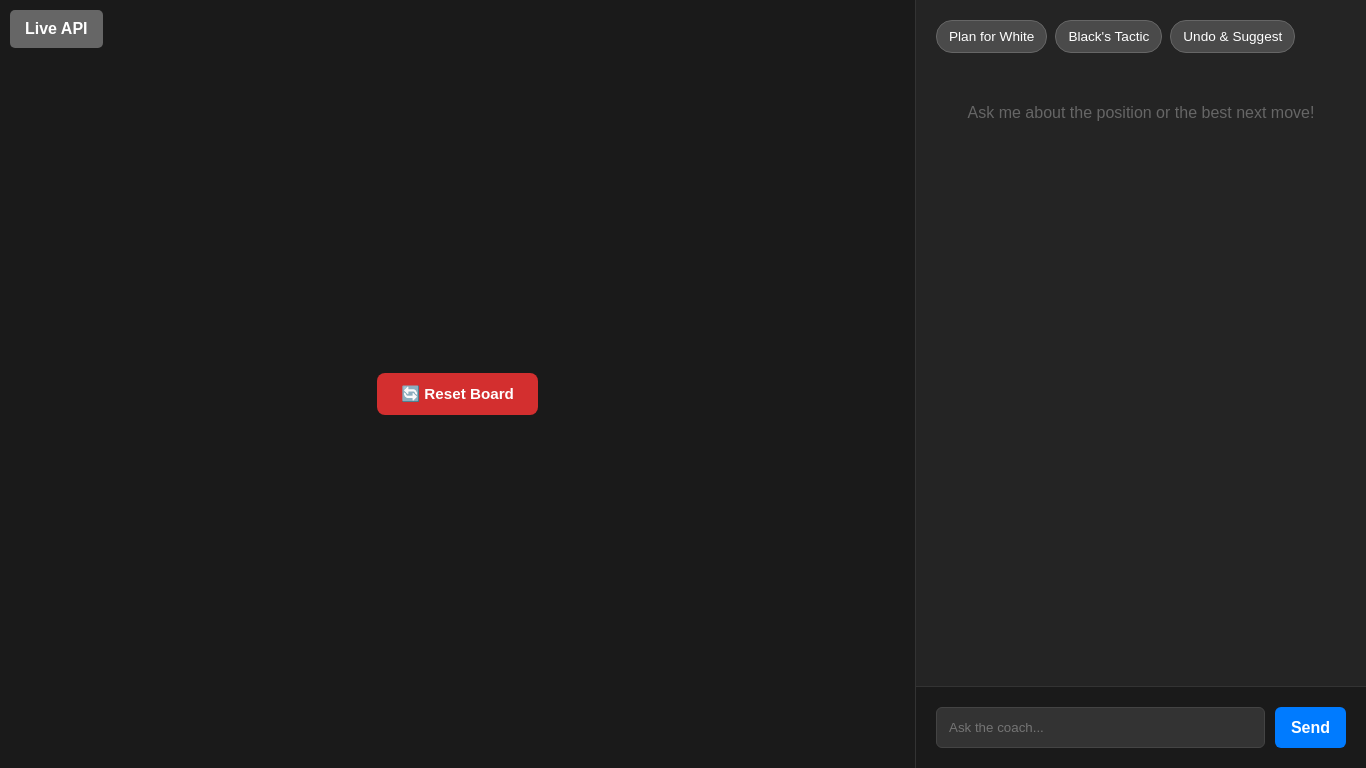
Test: Locked State Synchronizer Integration Tests › should handle illegal move by transforming to visual-only action
Type "Explain the Italian Game" into the field with placeholder "Ask the coach..." at point(1100, 728), box [936,707,1265,748]
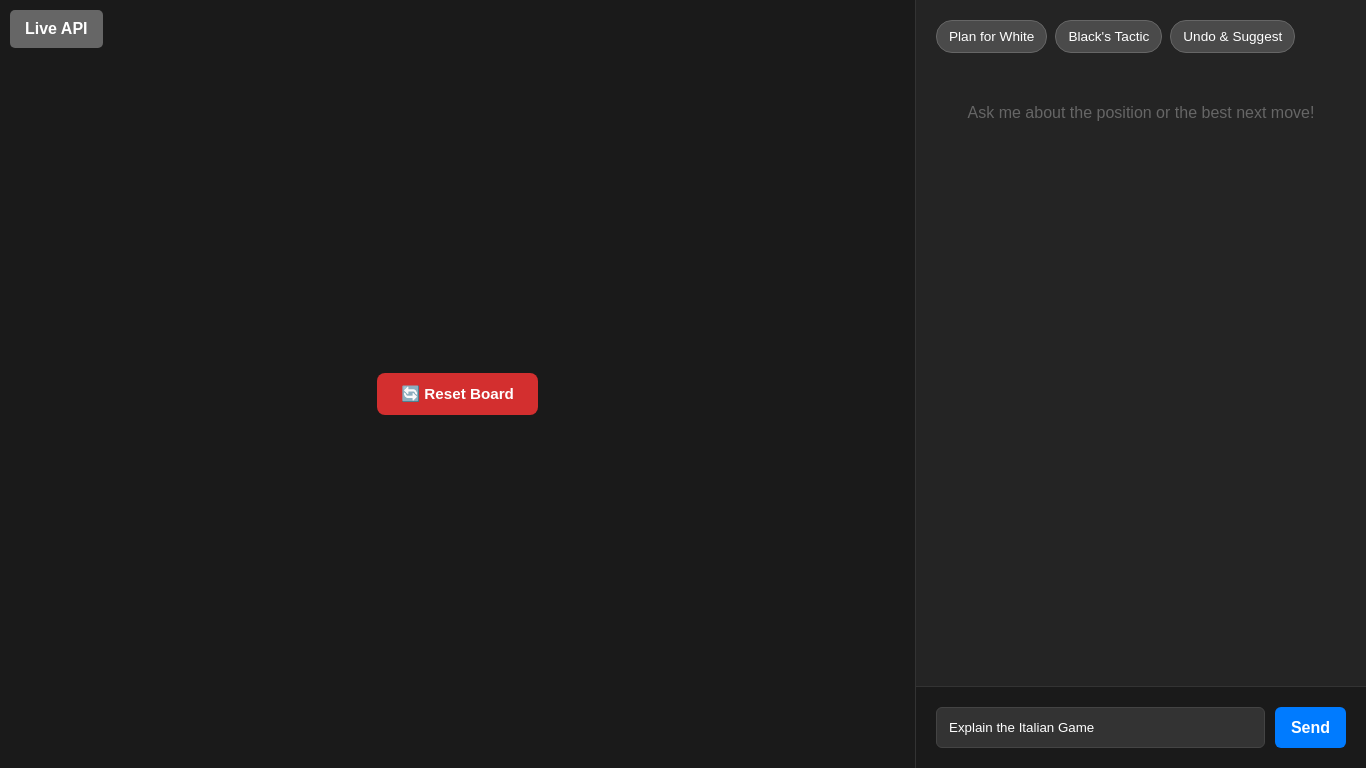
Click the button "Send" at point(1310, 728), box [1275,707,1346,748]
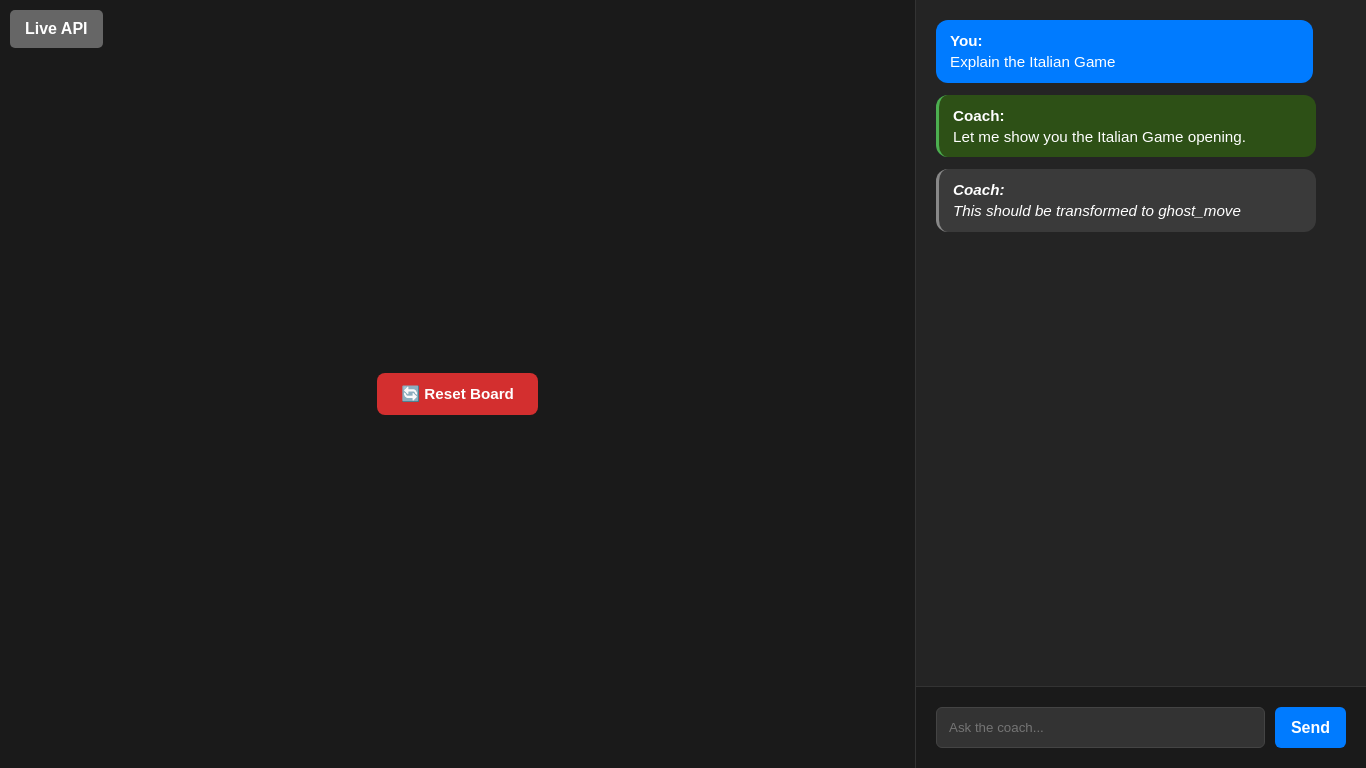
Expected: the field with placeholder "Ask the coach..." is shown, [936,707,1265,748]
Expected: the text "Coach:Let me show you the Italian Game opening." is shown, [936,95,1316,157]
